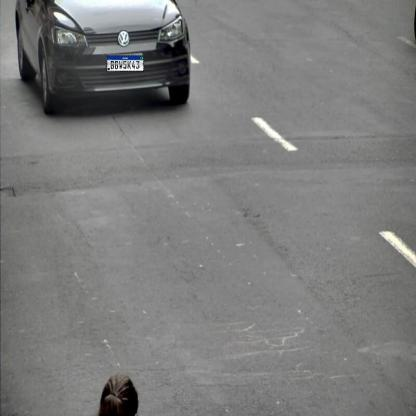PlacaM: (107, 56, 144, 72)
